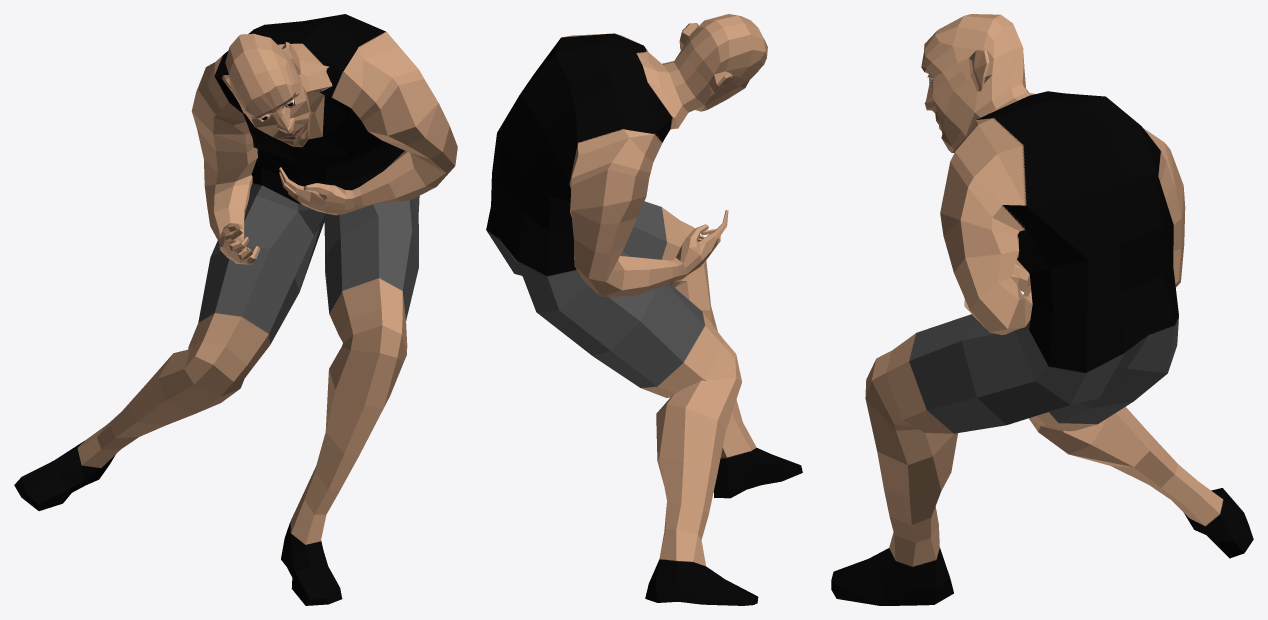
File: PlayerDead(31).obj
3 views of the same model, side by side, from view 1: azimuth 30°, elevation 25°; view 2: azimuth 150°, elevation 25°; view 3: azimuth 270°, elevation 25° (orthographic). The views are drawn at different scales.
Parts seen in each view (by area): view 1: Plane002; view 2: Plane002; view 3: Plane002.
Part boxes in pixels (left/top/right/bottom): Plane002: left=14, top=14, right=457, bottom=605; Plane002: left=486, top=14, right=802, bottom=605; Plane002: left=831, top=14, right=1253, bottom=605.
Bounding box in the file's own units: 858 × 1277 × 853.
